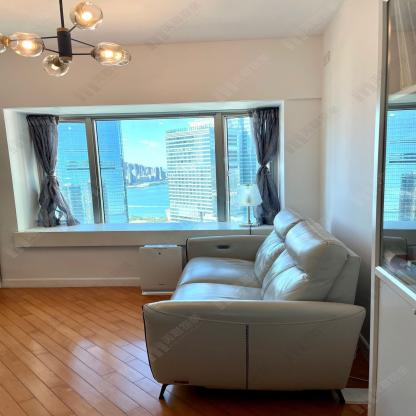Sofa: (141, 206, 366, 405)
Windowsill: (2, 99, 285, 234)
